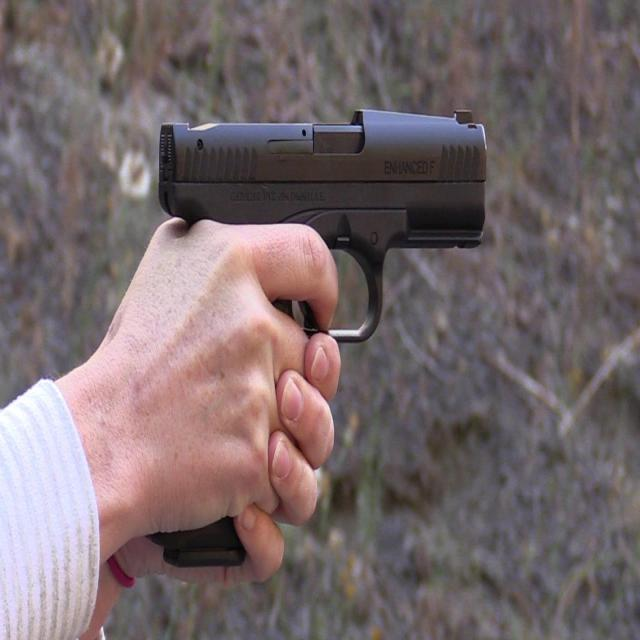Gun: (135, 64, 494, 414)
